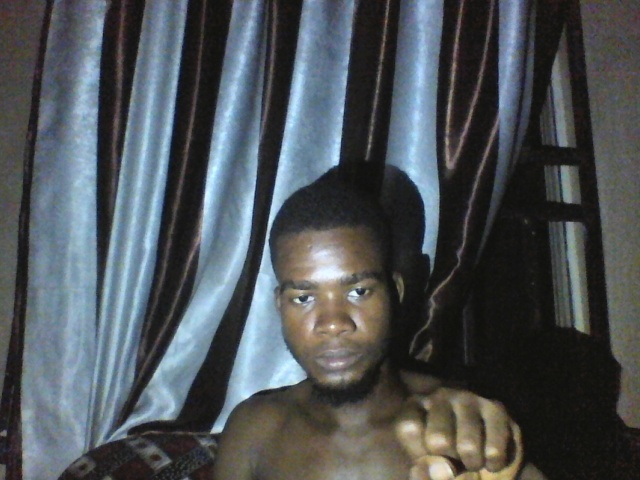yes: (383, 381, 540, 480)
